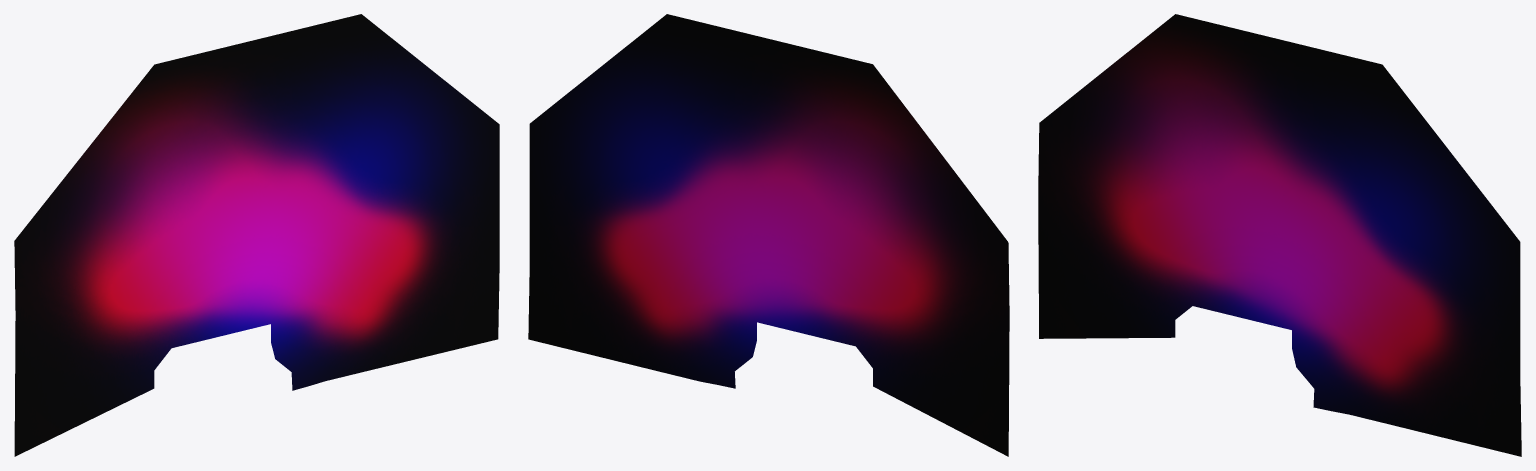
The model's file is Water2_GER02_KleineAlster.fbx.
3 renders of one model, left to right at view 1: azimuth 30°, elevation 25°; view 2: azimuth 150°, elevation 25°; view 3: azimuth 330°, elevation 25°, orthographic.
Visible parts, largest first — view 1: water_new; view 2: water_new; view 3: water_new.
Boxes of the visible parts, box(x1,y1,x2,y2) form: water_new: box(14, 14, 499, 456); water_new: box(528, 14, 1009, 456); water_new: box(1038, 14, 1521, 456).
Size of the model in its own units: 24000 by 17082 by 160.
